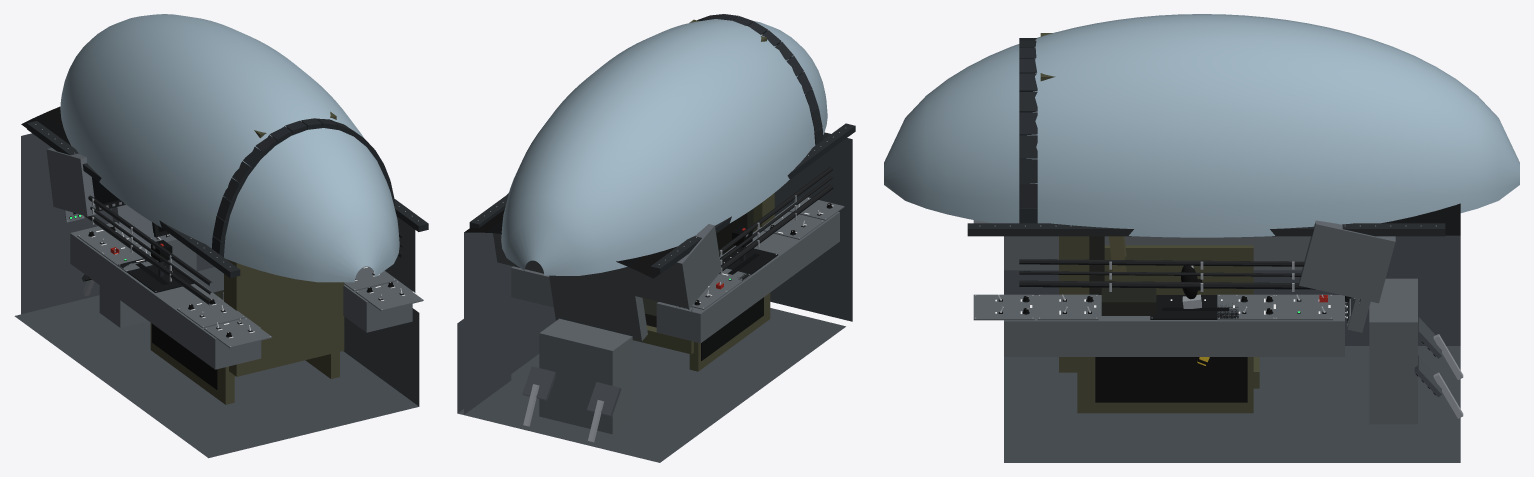
The model's file is kit_viper.glb.
3 views of the same model, side by side, from view 1: azimuth 30°, elevation 25°; view 2: azimuth 150°, elevation 25°; view 3: azimuth 270°, elevation 25° (orthographic). The views are drawn at different scales.
Visible parts, largest first — view 1: cockpit, CANOPY_GLASS; view 2: cockpit, CANOPY_GLASS; view 3: cockpit, CANOPY_GLASS.
Part boxes in pixels (bbox=[...]): cockpit: bbox=[14, 106, 428, 458]; CANOPY_GLASS: bbox=[60, 14, 399, 282]; cockpit: bbox=[457, 14, 855, 462]; CANOPY_GLASS: bbox=[501, 19, 827, 275]; cockpit: bbox=[967, 33, 1463, 462]; CANOPY_GLASS: bbox=[884, 14, 1519, 237].
Bounding box in the file's own units: 0.94 × 1.37 × 2.09.
